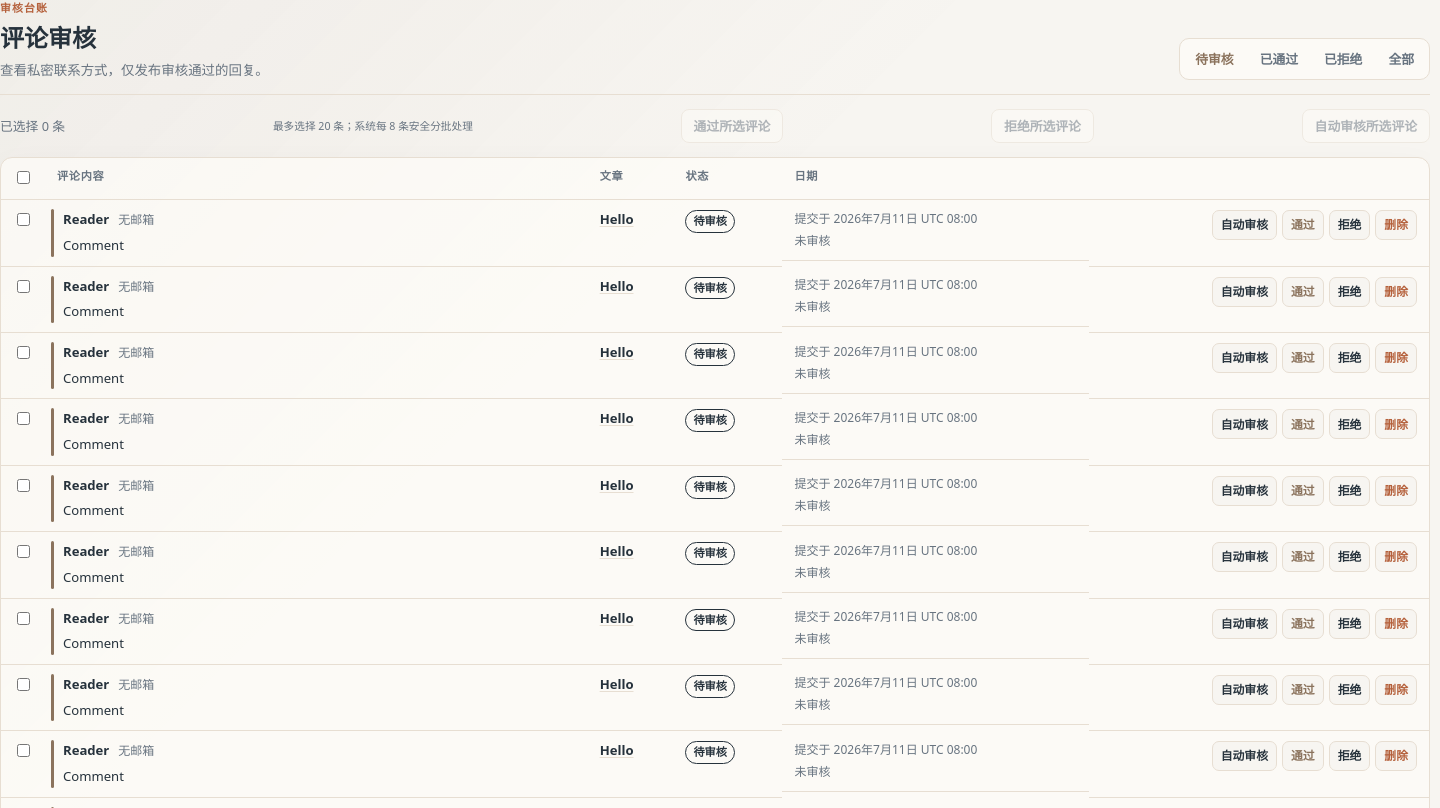
CommentModerationView › preserves twenty-item selection by sending D1-safe requests of at most eight comments
This screenshot has width=1440, height=808.
Click the checkbox with test id "comment-select-page" at (24, 178), box [17,172,30,184]
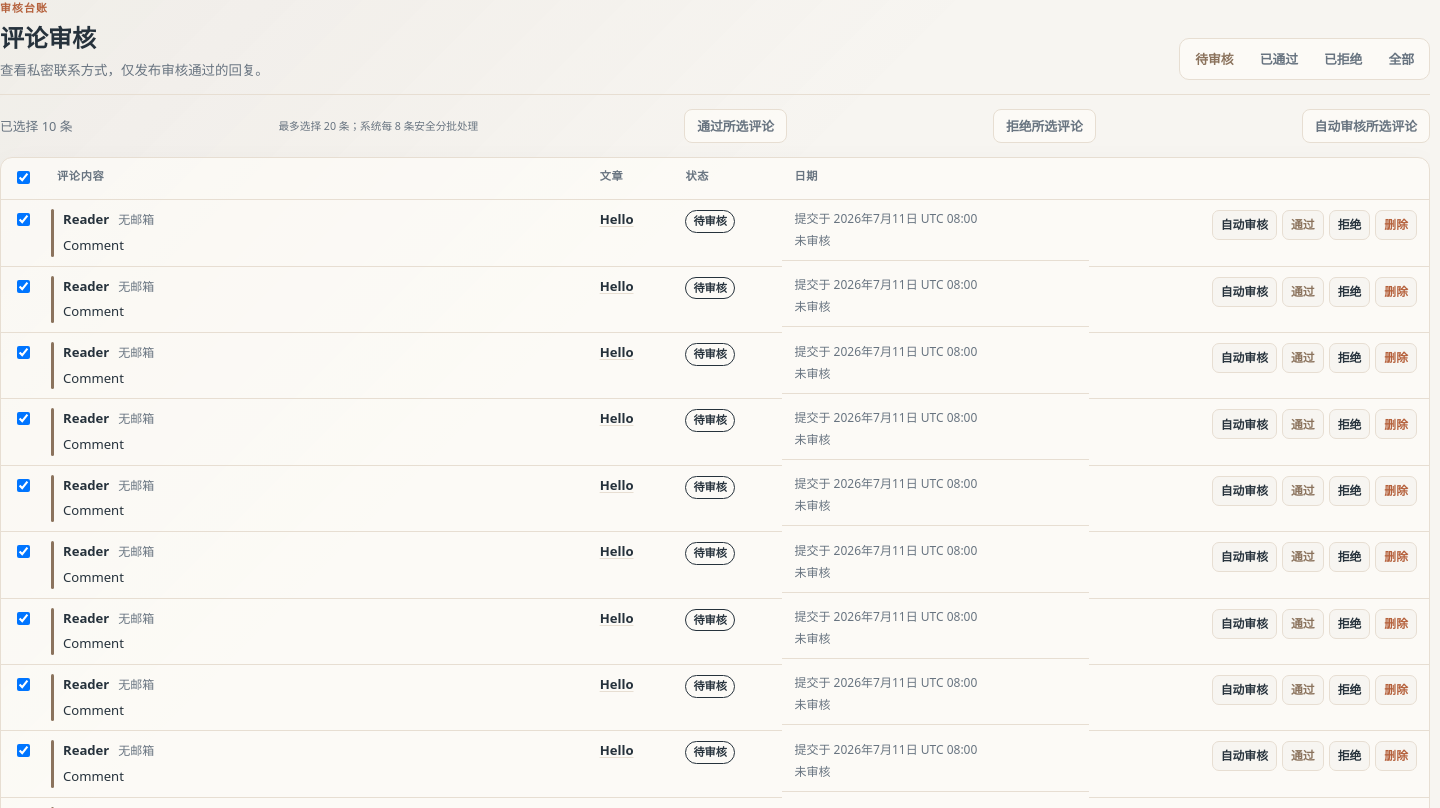
Click the button with test id "comment-auto-moderate-selected" at (1366, 126), box [1302,110,1430,144]
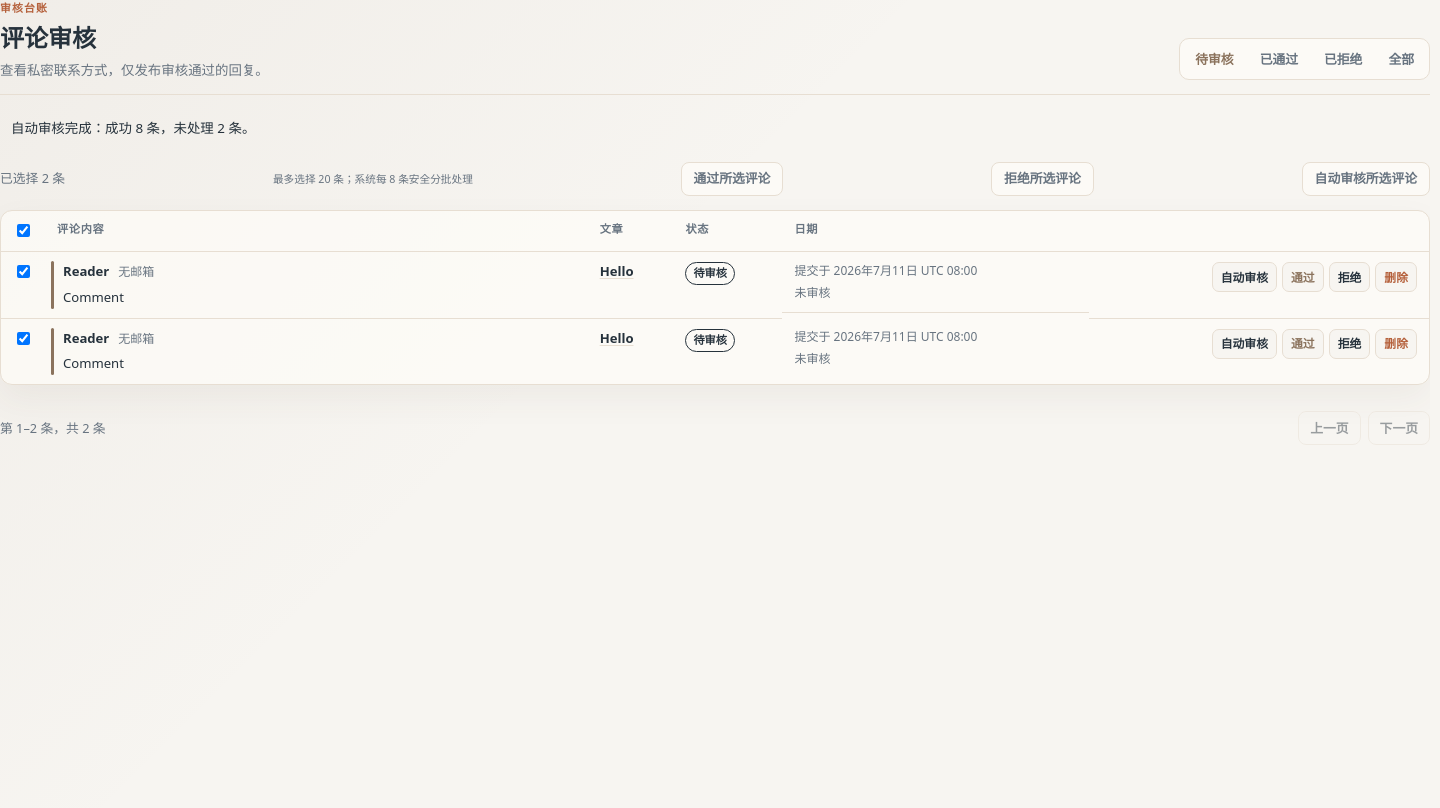
Expected: the text "最多选择 20 条；系统每 8 条安全分批处理" is shown, [273,171,473,187]
Result: the message with test id "comment-action-notice" shows "成功 8 条，未处理 2 条" at [11,120,255,138]
